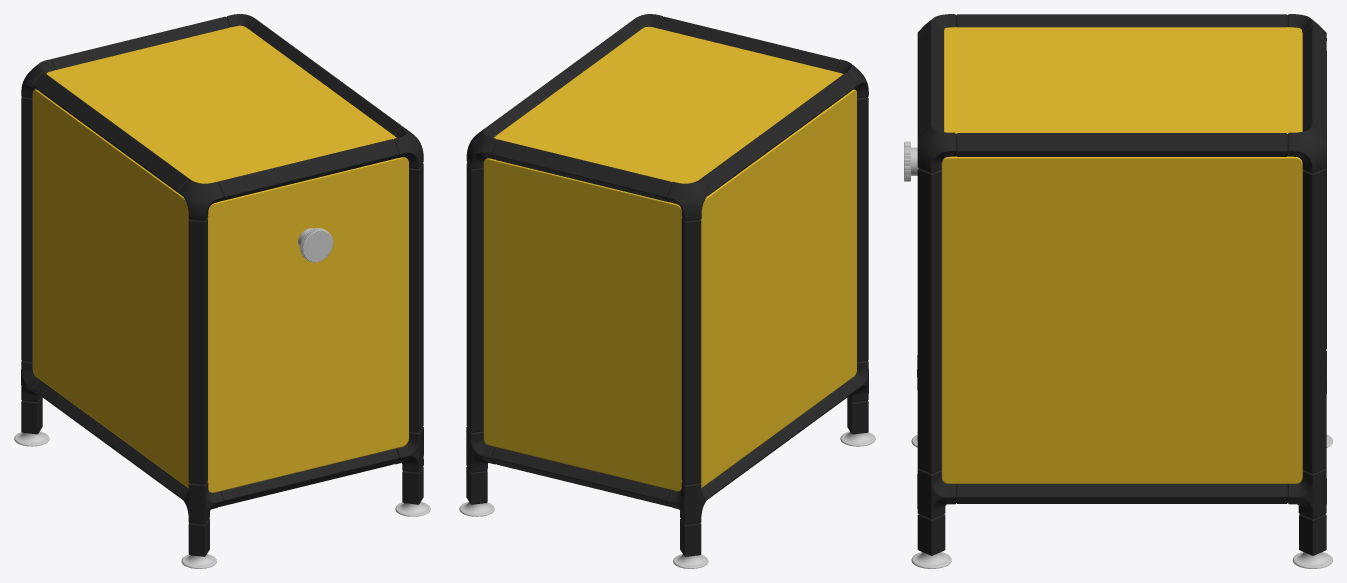
3 renders of one model, left to right at view 1: azimuth 30°, elevation 25°; view 2: azimuth 150°, elevation 25°; view 3: azimuth 270°, elevation 25°, orthographic. The views are drawn at different scales.
Visible parts, largest first — view 1: 229x329x329; view 2: 229x329x329; view 3: 229x329x329.
Part boxes in pixels (x1,y1,x2,y2): 229x329x329: (14,14,430,568); 229x329x329: (459,14,875,568); 229x329x329: (904,14,1332,568).
Bounding box in the file's own units: 0.319 × 0.4683 × 0.4257.
